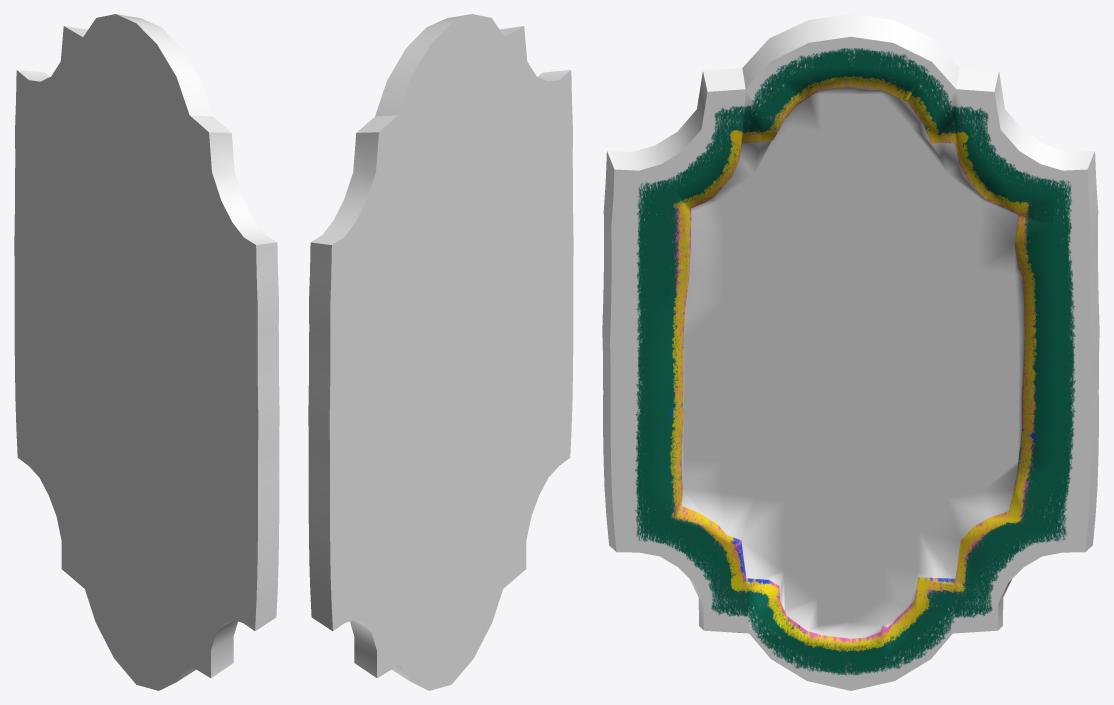
Rendered from Decor2.fbx.
3 views of the same model, side by side, from view 1: azimuth 30°, elevation 25°; view 2: azimuth 150°, elevation 25°; view 3: azimuth 270°, elevation 25° (orthographic).
Parts seen in each view (by area): view 1: Retopo_Plane.001; view 2: Retopo_Plane.001; view 3: Retopo_Plane.001.
Boxes of the visible parts, left/top/right/bottom form: Retopo_Plane.001: left=14, top=14, right=279, bottom=690; Retopo_Plane.001: left=308, top=14, right=573, bottom=690; Retopo_Plane.001: left=602, top=14, right=1099, bottom=690.
Bounding box in the file's own units: 6.36 × 161 × 107.
